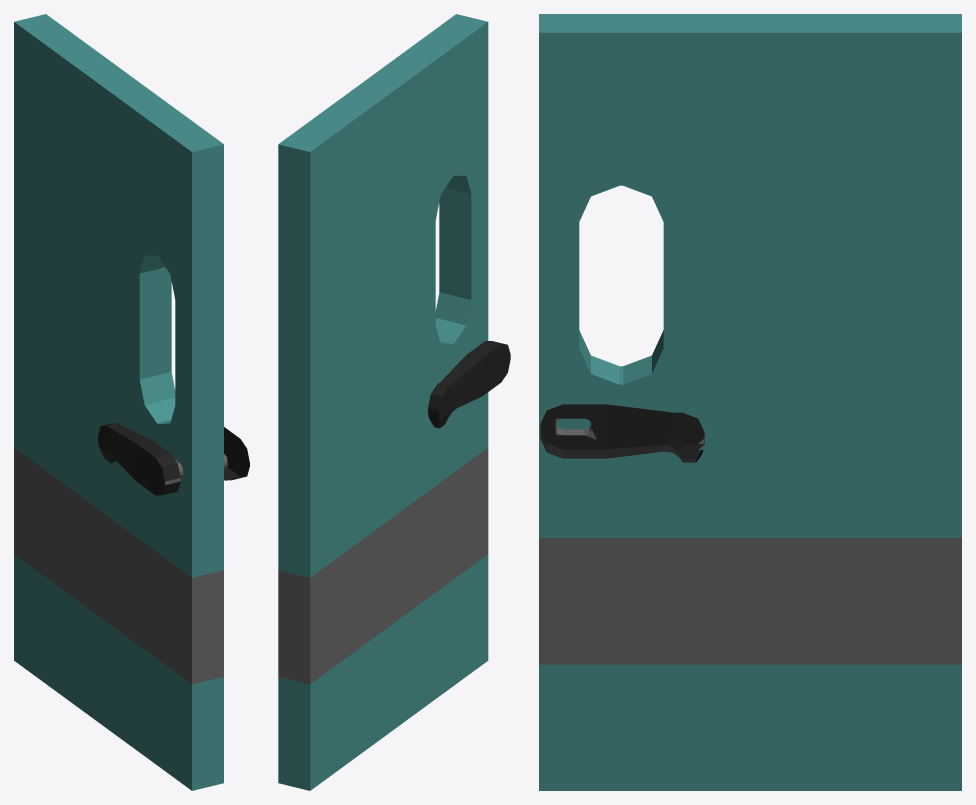
File: puerta izq.fbx
The picture shows the model from 3 angles, left to right: view 1: azimuth 30°, elevation 25°; view 2: azimuth 150°, elevation 25°; view 3: azimuth 270°, elevation 25°; orthographic projection. The views are drawn at different scales.
Visible parts, largest first — view 1: Cube; view 2: Cube; view 3: Cube.
Part boxes in pixels (x1=…): Cube: x1=14, y1=14, x2=249, y2=790; Cube: x1=278, y1=14, x2=510, y2=790; Cube: x1=539, y1=14, x2=961, y2=790.
Size of the model in its own units: 115 by 842 by 426.
